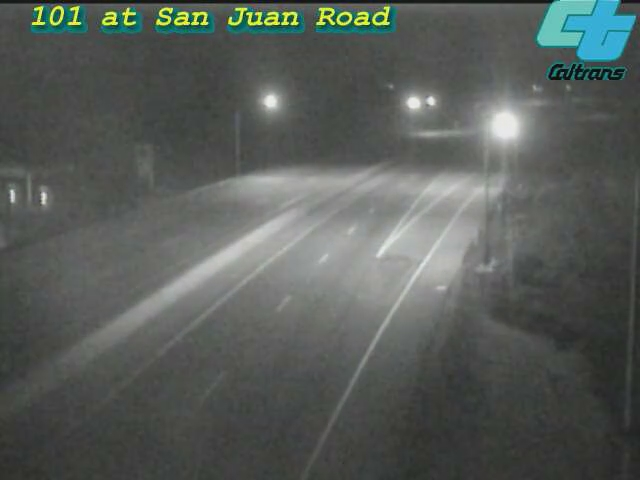vehicle: (476, 103, 526, 153)
